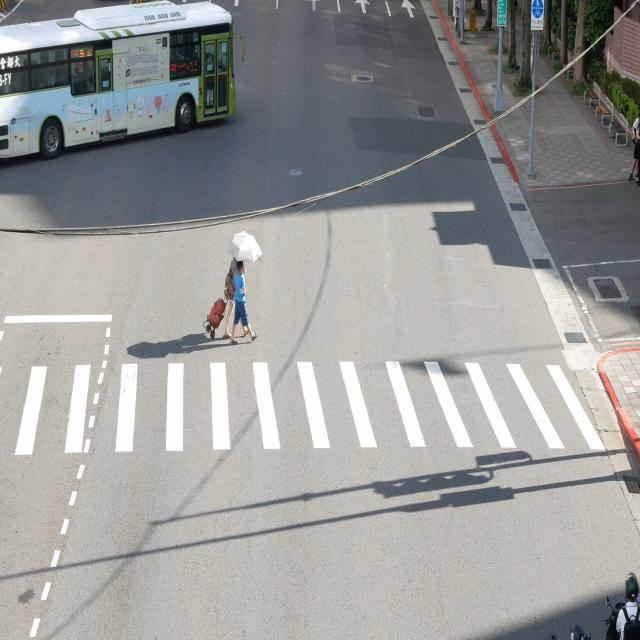pedestrian: (206, 232, 261, 343)
